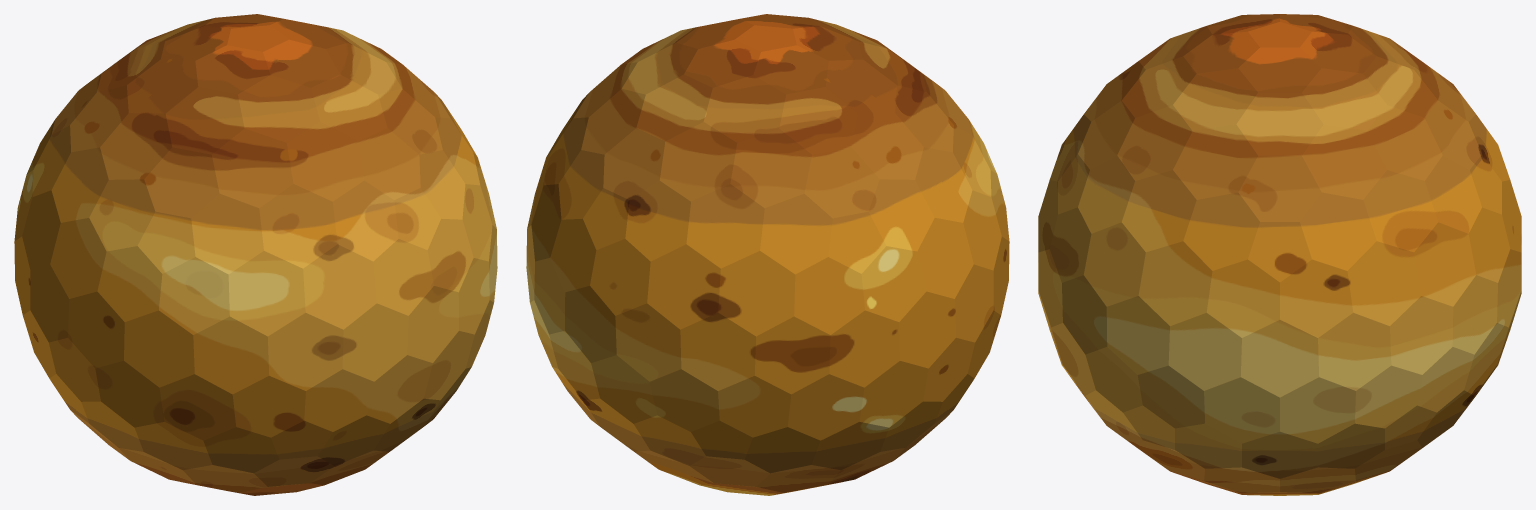
File: venus.glb
The picture shows the model from 3 angles, left to right: view 1: azimuth 30°, elevation 25°; view 2: azimuth 150°, elevation 25°; view 3: azimuth 270°, elevation 25°; orthographic projection.
Visible parts, largest first — view 1: Icosphere.134, Icosphere.030, Icosphere.013, Icosphere.041, Icosphere.104, Icosphere.086, Icosphere.029, Icosphere.141, Icosphere.153, Icosphere.103, Icosphere.067, Icosphere.014 (+62 smaller); view 2: Icosphere.094, Icosphere.092, Icosphere.091, Icosphere.148, Icosphere.085, Icosphere.084, Icosphere.064, Icosphere.095, Icosphere.151, Icosphere.130, Icosphere.063, Icosphere.016 (+62 smaller); view 3: Icosphere.073, Icosphere.046, Icosphere.071, Icosphere.033, Icosphere.061, Icosphere.007, Icosphere.051, Icosphere.036, Icosphere.047, Icosphere.023, Icosphere.034, Icosphere.022 (+59 smaller).
Boxes of the visible parts, x1=… form: Icosphere.134: x1=228, y1=251, x2=305, y2=336; Icosphere.030: x1=259, y1=184, x2=337, y2=268; Icosphere.013: x1=212, y1=128, x2=293, y2=208; Icosphere.041: x1=303, y1=244, x2=376, y2=329; Icosphere.104: x1=268, y1=312, x2=343, y2=390; Icosphere.086: x1=193, y1=316, x2=269, y2=394; Icosphere.029: x1=286, y1=122, x2=364, y2=201; Icosphere.141: x1=191, y1=193, x2=263, y2=274; Icosphere.153: x1=124, y1=310, x2=194, y2=387; Icosphere.103: x1=159, y1=257, x2=229, y2=334; Icosphere.067: x1=238, y1=75, x2=320, y2=142; Icosphere.014: x1=165, y1=87, x2=244, y2=154; Icosphere.094: x1=718, y1=251, x2=795, y2=336; Icosphere.092: x1=686, y1=184, x2=764, y2=268; Icosphere.091: x1=730, y1=128, x2=811, y2=208; Icosphere.148: x1=647, y1=244, x2=720, y2=329; Icosphere.085: x1=680, y1=312, x2=755, y2=390; Icosphere.084: x1=754, y1=316, x2=830, y2=394; Icosphere.064: x1=659, y1=122, x2=737, y2=201; Icosphere.095: x1=760, y1=193, x2=832, y2=274; Icosphere.151: x1=829, y1=310, x2=899, y2=387; Icosphere.130: x1=794, y1=257, x2=864, y2=334; Icosphere.063: x1=703, y1=75, x2=785, y2=142; Icosphere.016: x1=779, y1=87, x2=858, y2=154; Icosphere.073: x1=1240, y1=320, x2=1319, y2=397; Icosphere.046: x1=1138, y1=241, x2=1212, y2=325; Icosphere.071: x1=1347, y1=241, x2=1421, y2=325; Icosphere.033: x1=1173, y1=124, x2=1257, y2=199; Icosphere.061: x1=1302, y1=124, x2=1386, y2=199; Icosphere.007: x1=1168, y1=312, x2=1241, y2=390; Icosphere.051: x1=1318, y1=312, x2=1391, y2=390; Icosphere.036: x1=1280, y1=259, x2=1353, y2=337; Icosphere.047: x1=1206, y1=259, x2=1279, y2=337; Icosphere.023: x1=1363, y1=170, x2=1438, y2=252; Icosphere.034: x1=1121, y1=170, x2=1196, y2=252; Icosphere.022: x1=1300, y1=192, x2=1376, y2=270.
Bounding box in the file's own units: 12.1 × 12.1 × 12.1.
1 material, 1 textured.
